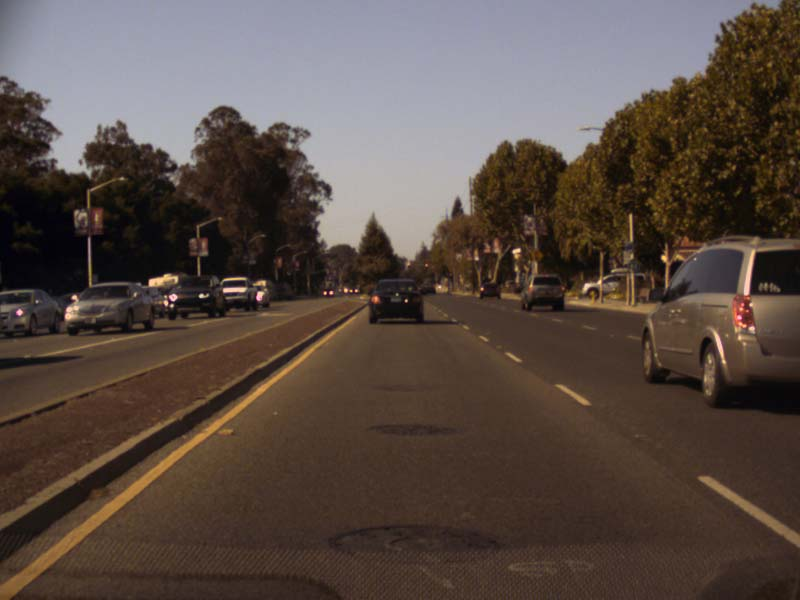Yellow: (424, 262, 427, 267), (407, 262, 410, 265)
